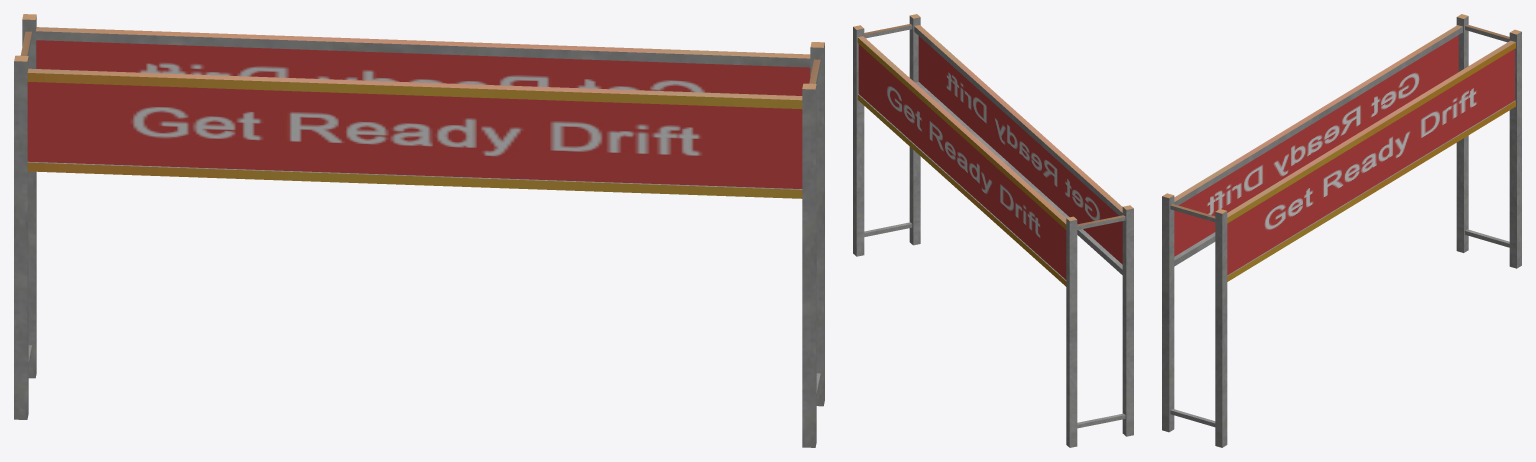
The model's file is get_ready_drift.fbx.
3 views of the same model, side by side, from view 1: azimuth 30°, elevation 25°; view 2: azimuth 150°, elevation 25°; view 3: azimuth 270°, elevation 25° (orthographic). The views are drawn at different scales.
Parts seen in each view (by area): view 1: get_ready_drift; view 2: get_ready_drift; view 3: get_ready_drift.
Boxes of the visible parts, bbox=[...] form: get_ready_drift: bbox=[14, 14, 824, 447]; get_ready_drift: bbox=[853, 14, 1133, 447]; get_ready_drift: bbox=[1162, 14, 1521, 447].
Size of the model in its own units: 1667 by 910 by 1268.
